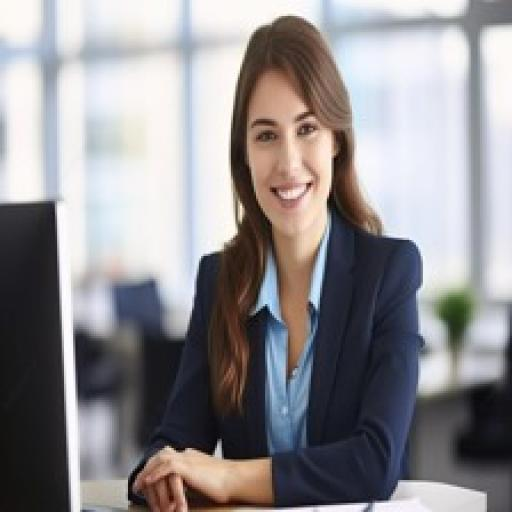human: (103, 7, 432, 512)
